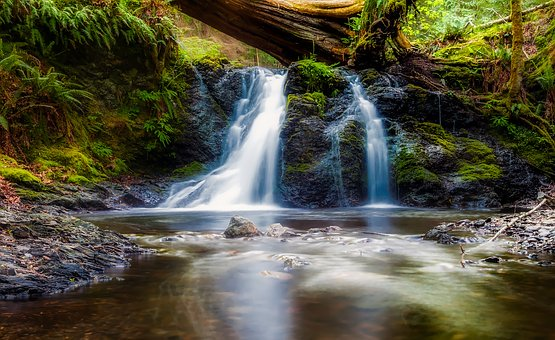lake: (70, 213, 525, 340)
mountain: (8, 7, 544, 209)
waterfall: (202, 63, 421, 229)
